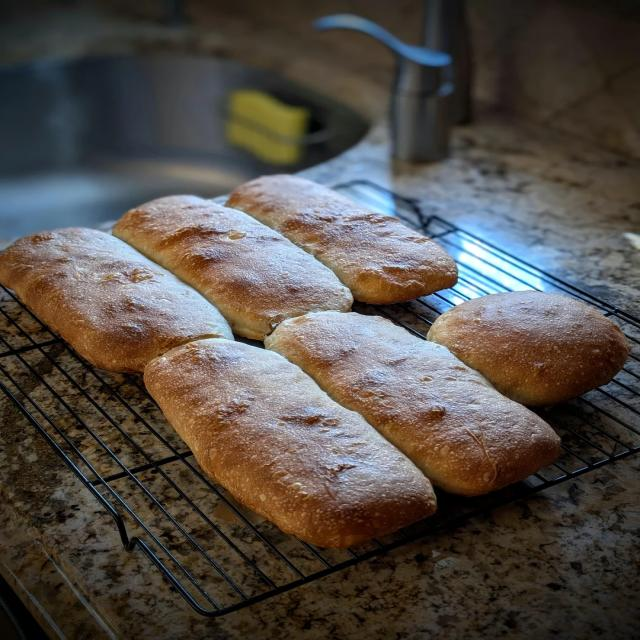Ciabatta: (145, 338, 436, 548), (265, 311, 559, 496), (113, 195, 353, 340), (0, 228, 233, 374), (226, 175, 457, 303), (427, 291, 627, 406)
